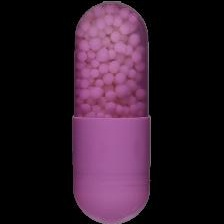62175-486: (0, 0, 224, 224)
